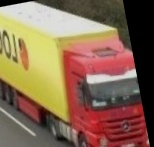truck: (0, 0, 151, 147)
